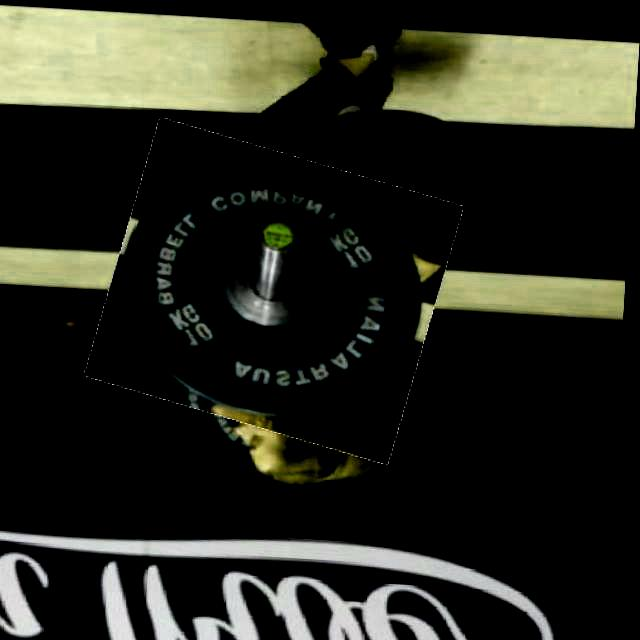barbell: (100, 131, 455, 447)
